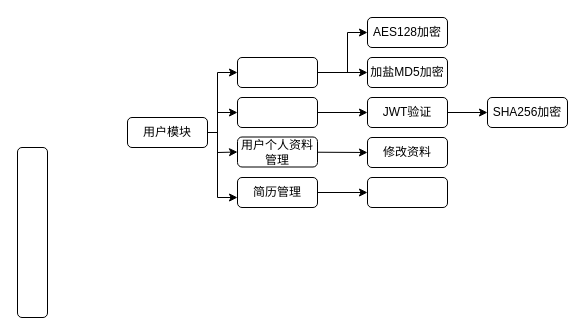
The diagram is 585 pixels wide and 335 high, and some of its shapes have lost their labels. The shapes that lost their labels are listed below. From the top down, each one's centre as x and y in pixels, then its label:
At [277,72]: "用户注册登录".
At [277,112]: "用户权限验证".
At [407,192]: "上传和下载简历".
At [32,232]: "在 线 求 职 平 台".
